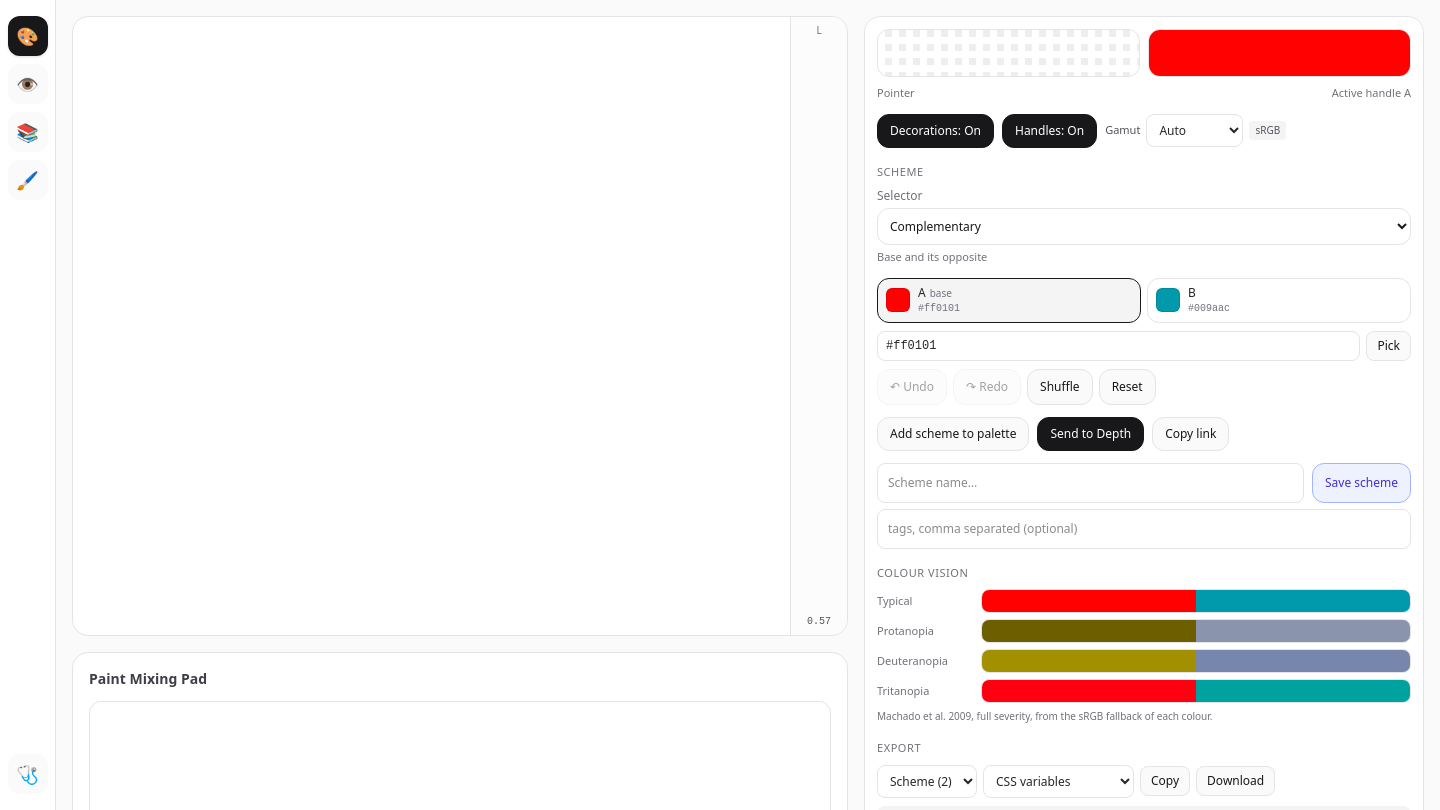
Test: Library page › loads a starter to Depth as sent colours
Click the button named "scheme library": (28,132) x1=8 y1=112 x2=48 y2=152
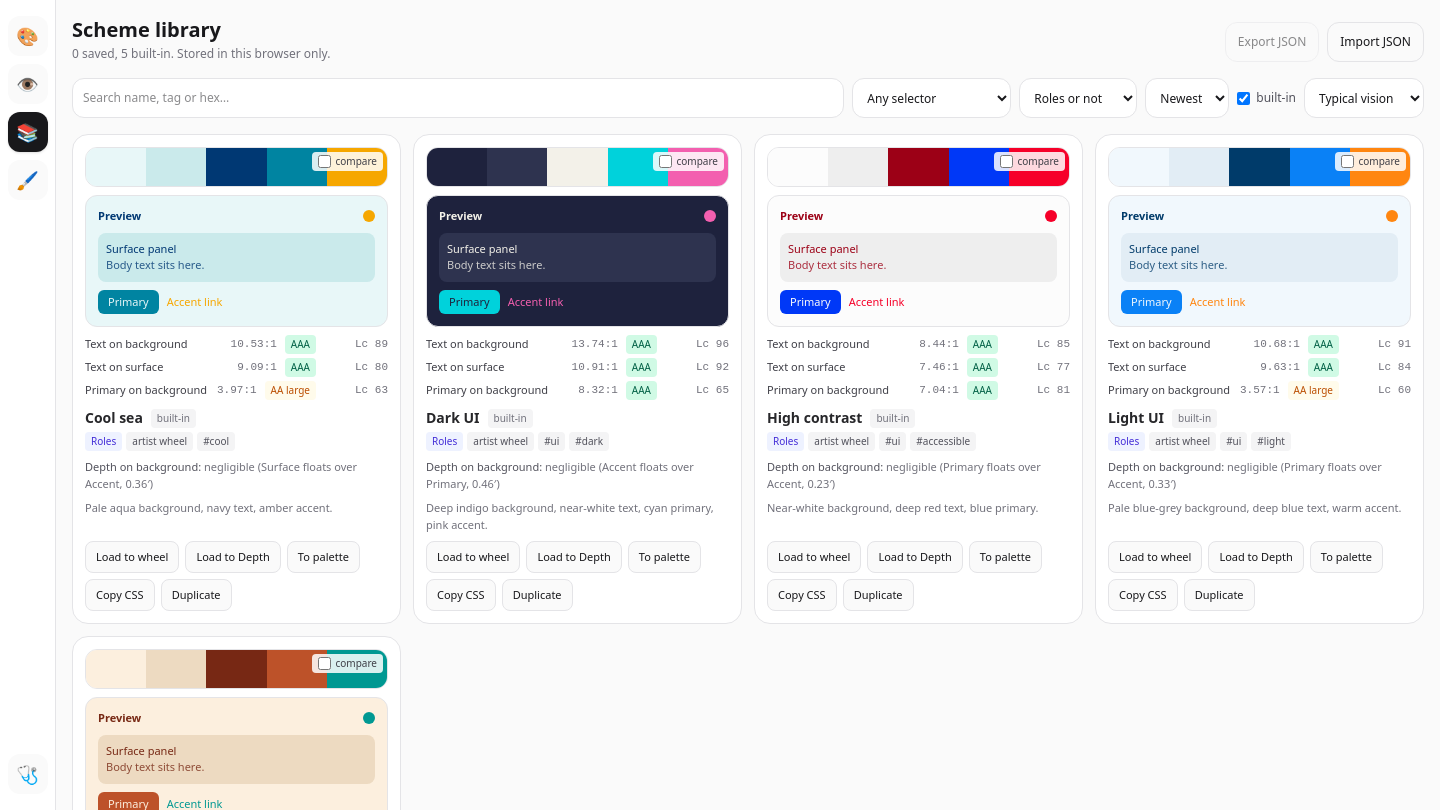
Click the button "Load to Depth" below "0.36": (233,557) x1=185 y1=541 x2=281 y2=573
(page scrolled)
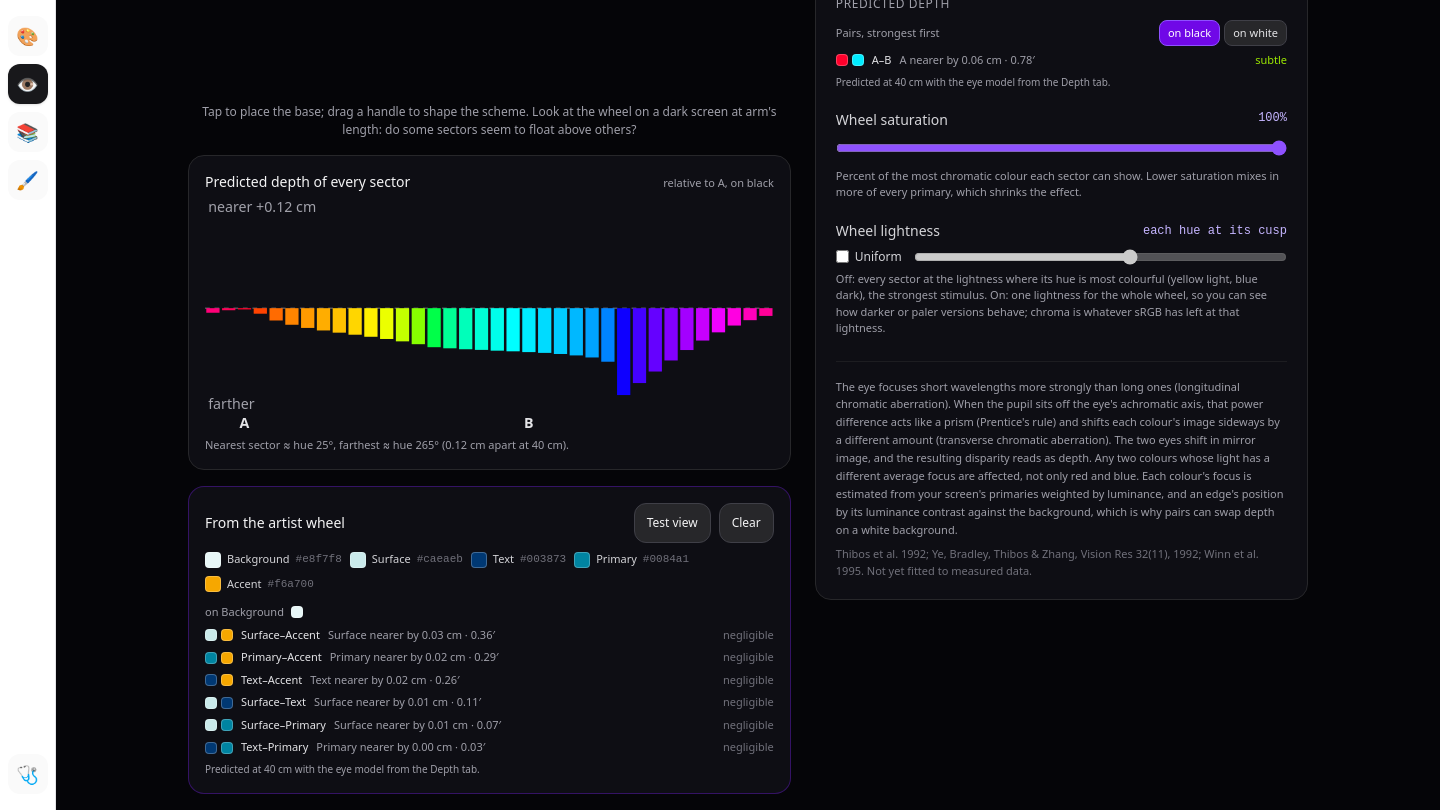
Check: the heading "From the artist wheel" is shown, box x1=205 y1=514 x2=345 y2=534
